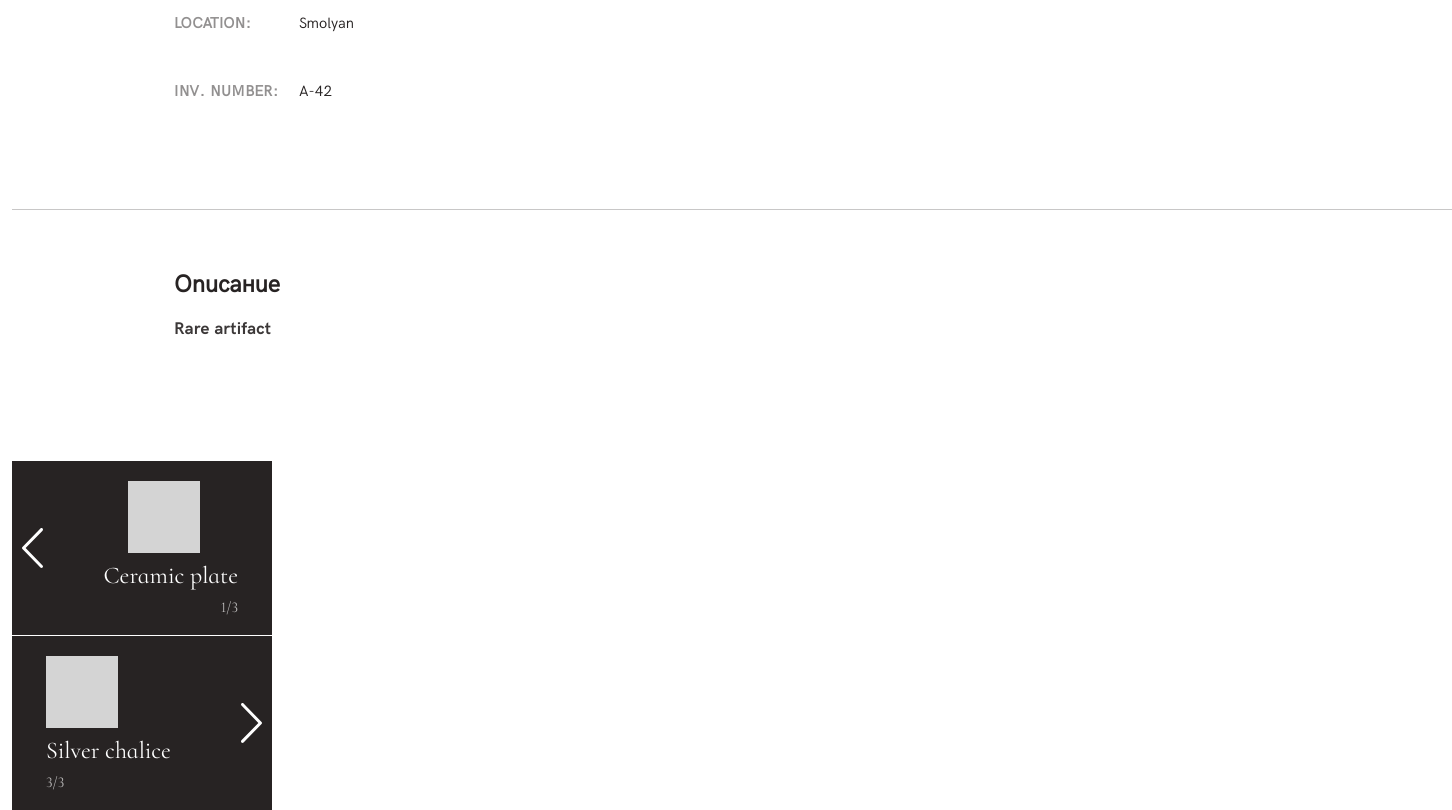
Test: CollectionsDetailItem › scrolls to the new item image after mobile bottom arrow navigation only
The width and height of the screenshot is (1452, 810).
(page scrolled)
Click the link "Silver chalice 3/3" at (142, 723), box [12, 636, 272, 809]
(page scrolled)
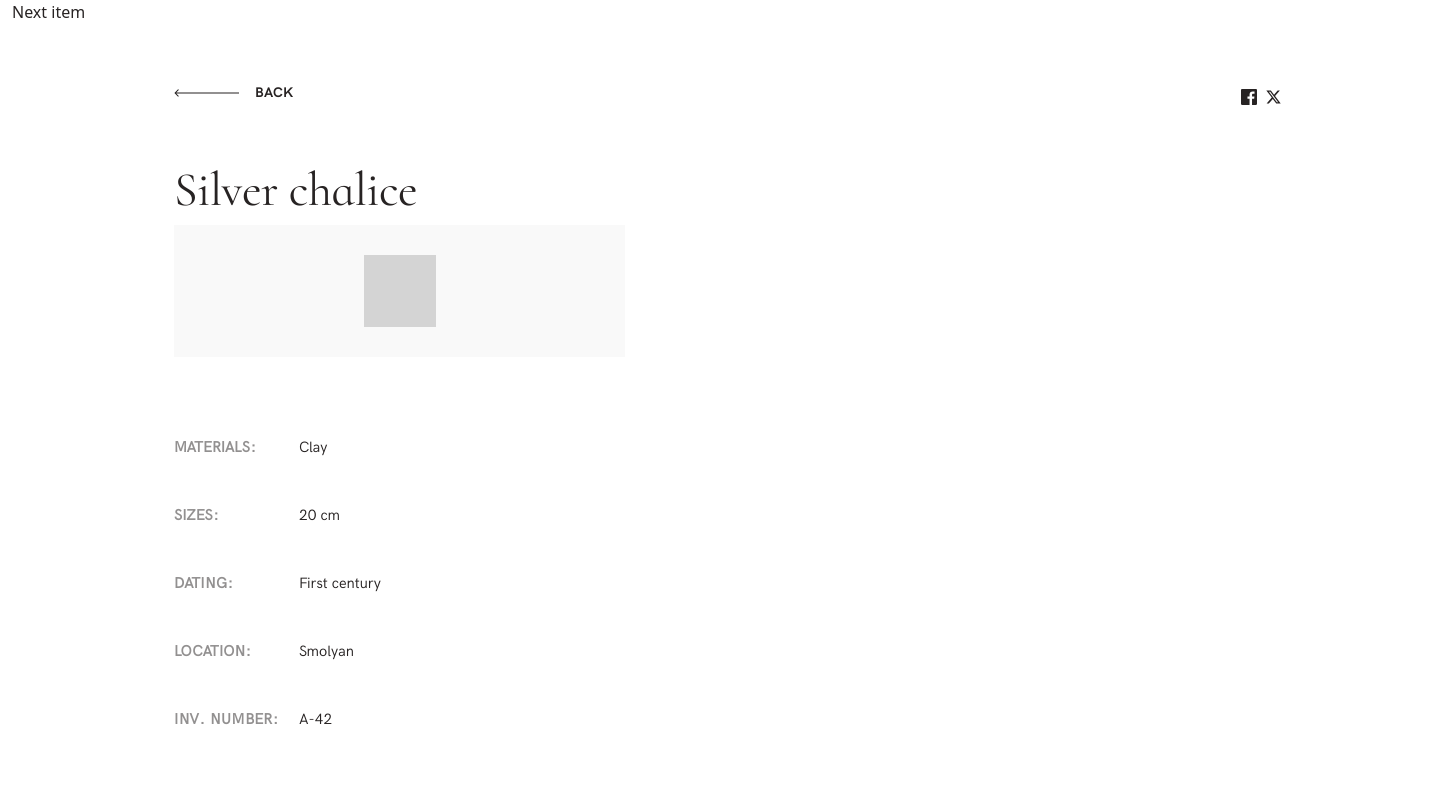
Expected: the heading "Silver chalice" is shown, [174, 167, 417, 215]
